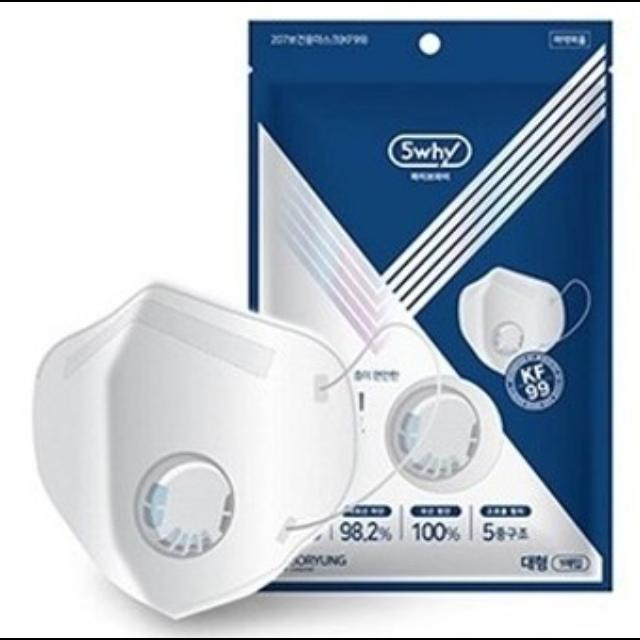masks: (23, 264, 427, 638)
